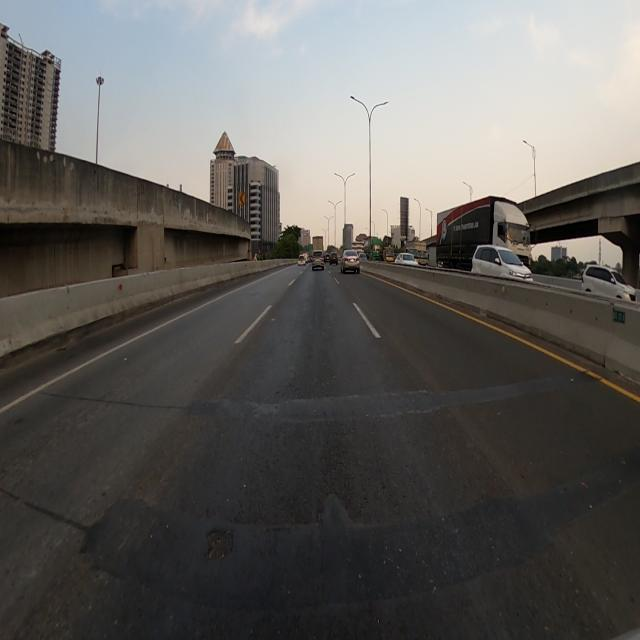Buraco: (202, 526, 237, 563)
